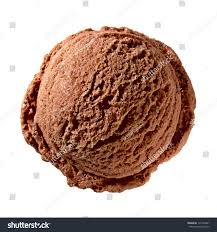ice-cream: (20, 27, 197, 193)
